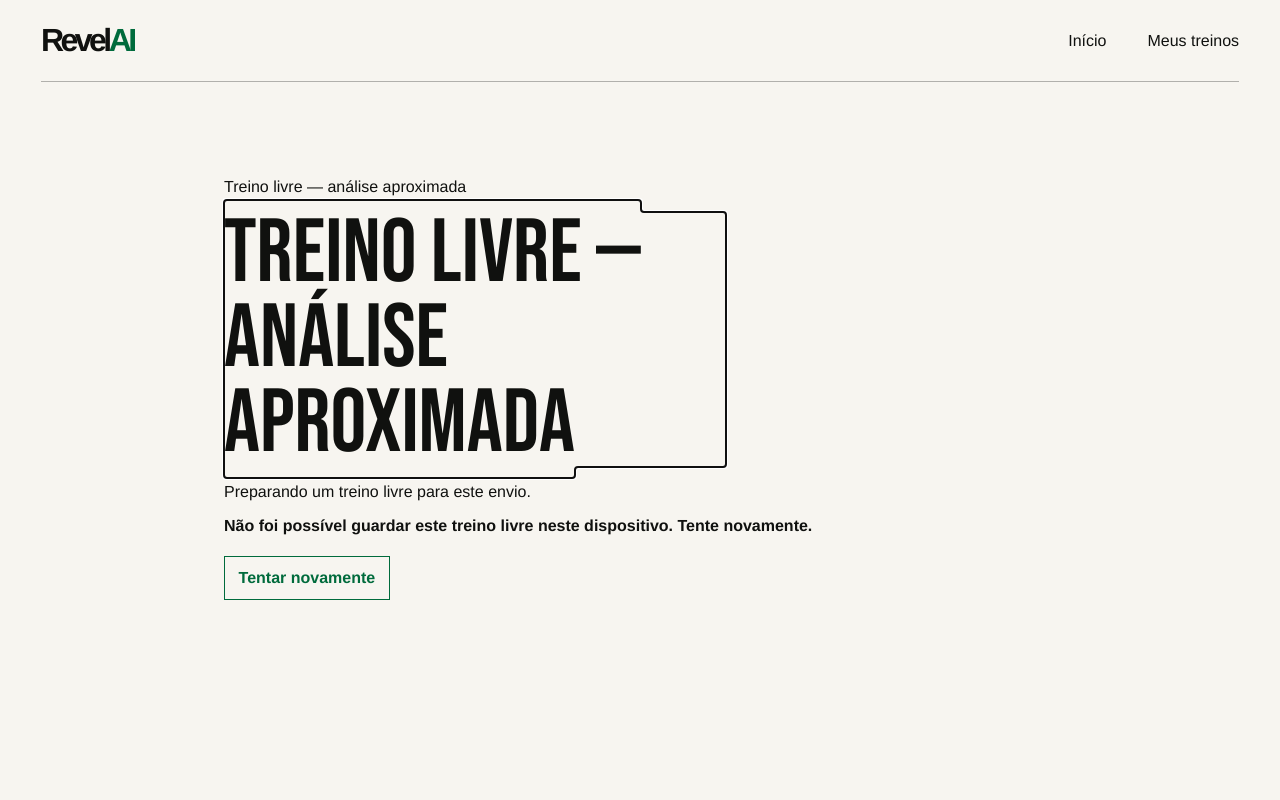
production Free Training tracer › does not POST until session storage confirms the causal key, then retries once storage recovers
This screenshot has width=1280, height=800.
Expected: the message "Não foi possível guardar este treino livre neste dispositivo. Tente novamente." is shown, [224,517,812,534]
Click the button "Tentar novamente". click: (307, 578)
box: [224,556,390,600]
(page scrolled)
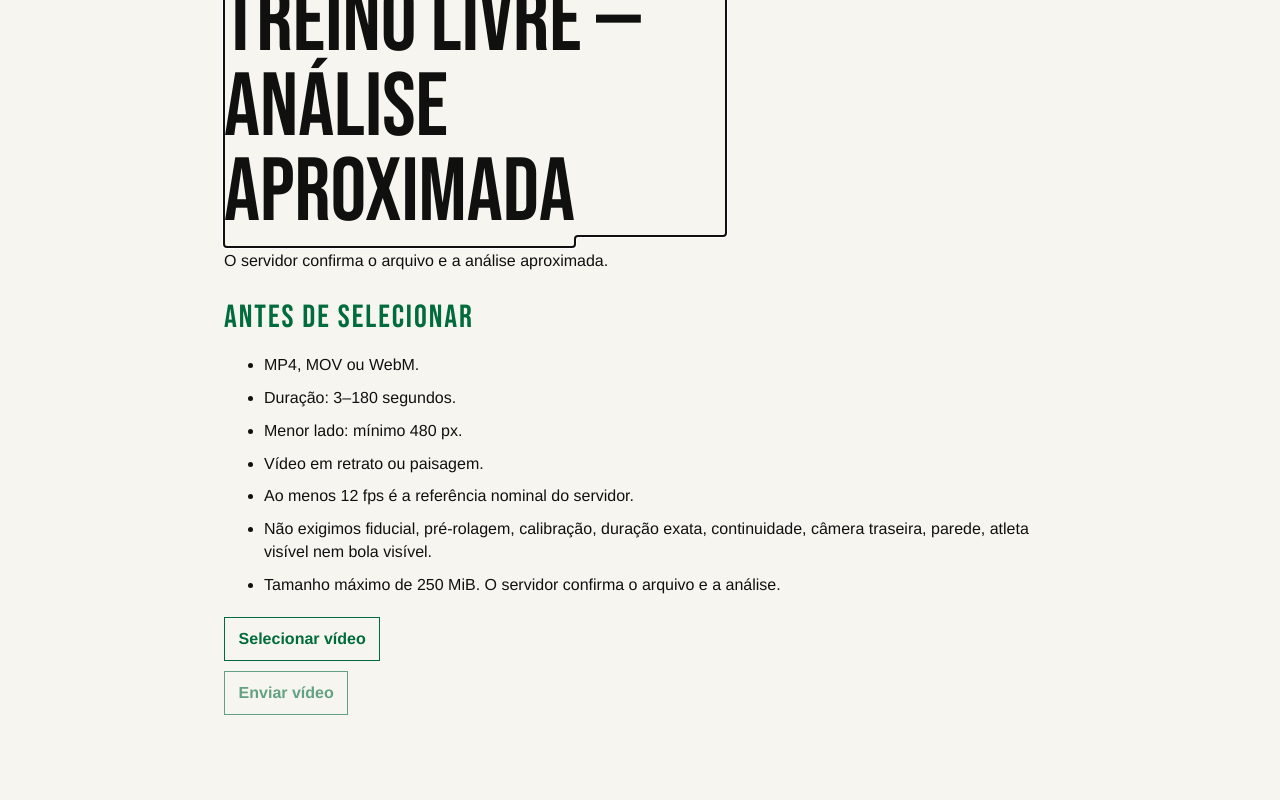
Now the button "Selecionar vídeo" is enabled, box [224,617,380,661]
